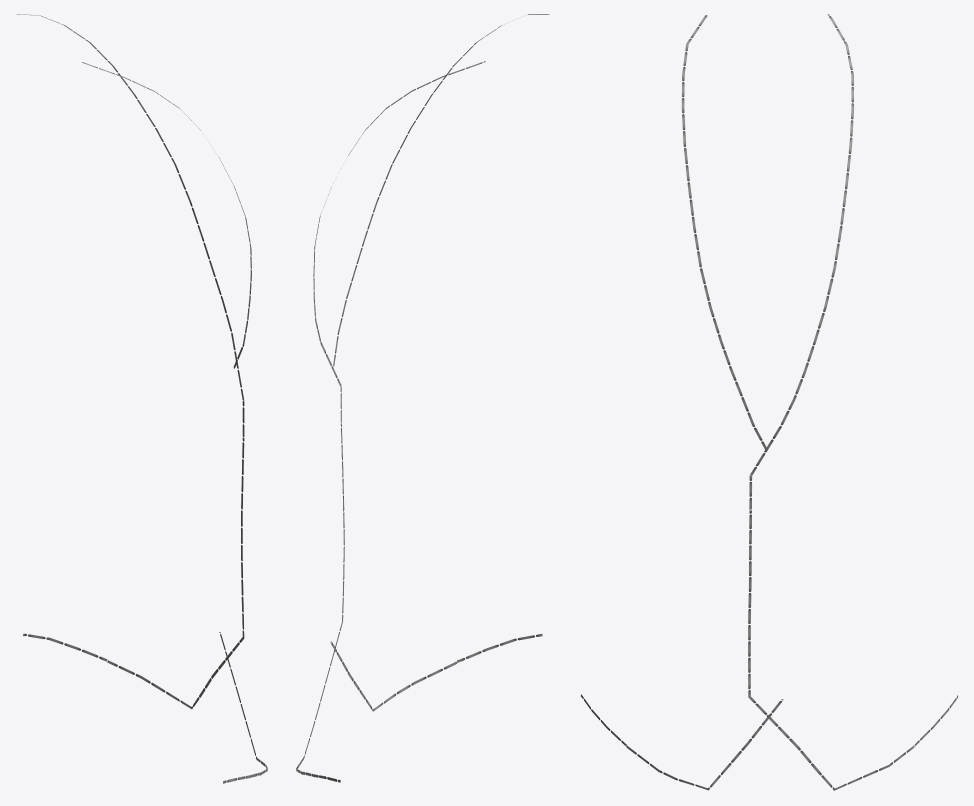
Rendered from single_front_stiching.glb.
The picture shows the model from 3 angles, left to right: view 1: azimuth 30°, elevation 25°; view 2: azimuth 150°, elevation 25°; view 3: azimuth 270°, elevation 25°; orthographic projection. The views are drawn at different scales.
Visible parts, largest first — view 1: SM_Stitching_Singlefornt; view 2: SM_Stitching_Singlefornt; view 3: SM_Stitching_Singlefornt.
Part boxes in pixels (bbox=[...]): SM_Stitching_Singlefornt: bbox=[16, 14, 267, 783]; SM_Stitching_Singlefornt: bbox=[296, 14, 549, 782]; SM_Stitching_Singlefornt: bbox=[581, 14, 957, 790].
Size of the model in its own units: 1.01 by 3.75 by 1.86.
Materials: 1 (1 with a texture image).
